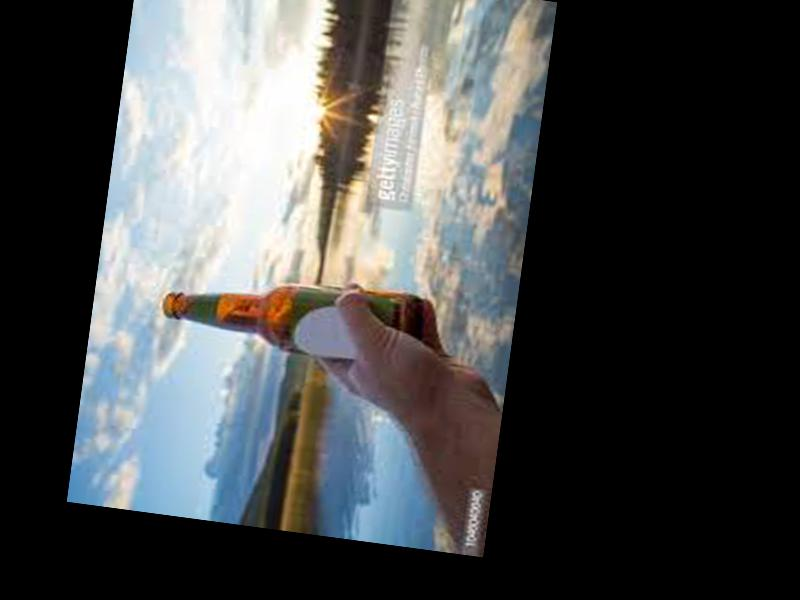Beer: (156, 257, 423, 370)
